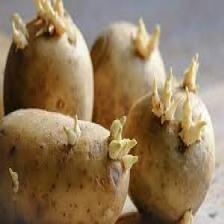Bud: (178, 87, 208, 149), (106, 116, 138, 174), (150, 65, 178, 125), (32, 0, 66, 42), (135, 18, 161, 60), (10, 9, 32, 51), (182, 50, 200, 99), (61, 114, 83, 148), (7, 165, 23, 195)
Sprouted potato: (2, 107, 138, 224), (128, 53, 215, 224), (0, 1, 94, 124), (90, 17, 172, 135)
